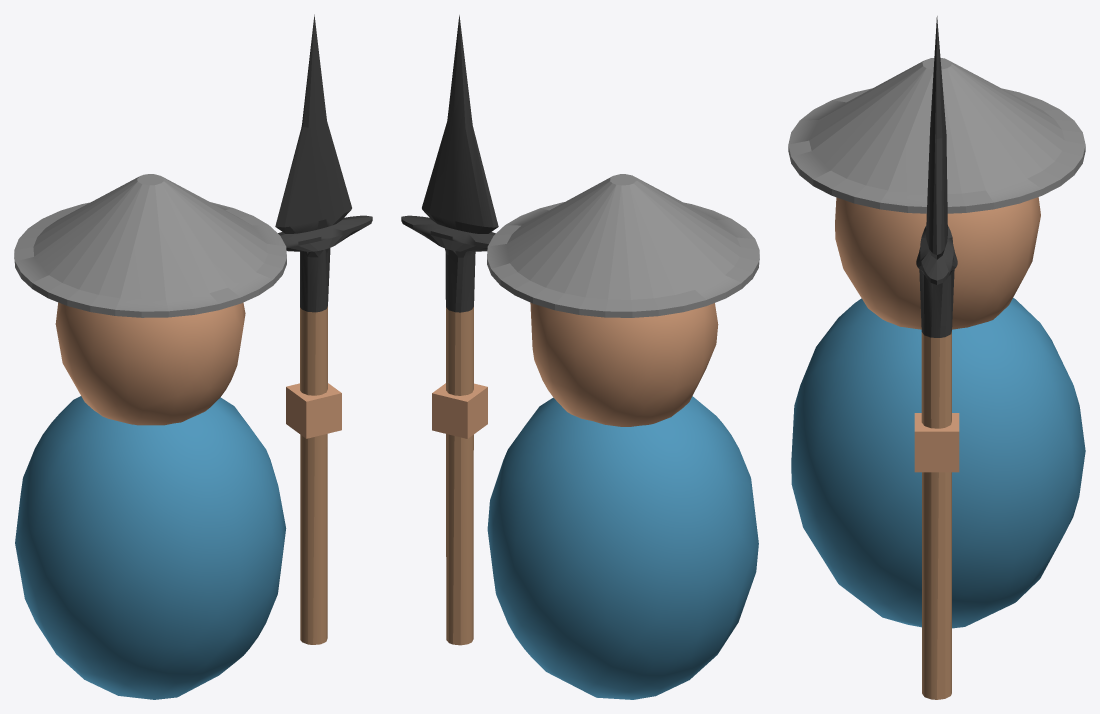
Rendered from Unit_Blue_LOD0.fbx.
The picture shows the model from 3 angles, left to right: view 1: azimuth 30°, elevation 25°; view 2: azimuth 150°, elevation 25°; view 3: azimuth 270°, elevation 25°; orthographic projection. The views are drawn at different scales.
Parts seen in each view (by area): view 1: Unit; view 2: Unit; view 3: Unit.
Boxes of the visible parts, box(x1,y1,x2,y2) form: Unit: box(14, 14, 372, 699); Unit: box(401, 15, 759, 699); Unit: box(788, 16, 1085, 699).
Size of the model in its own units: 1.44 by 2.57 by 1.
